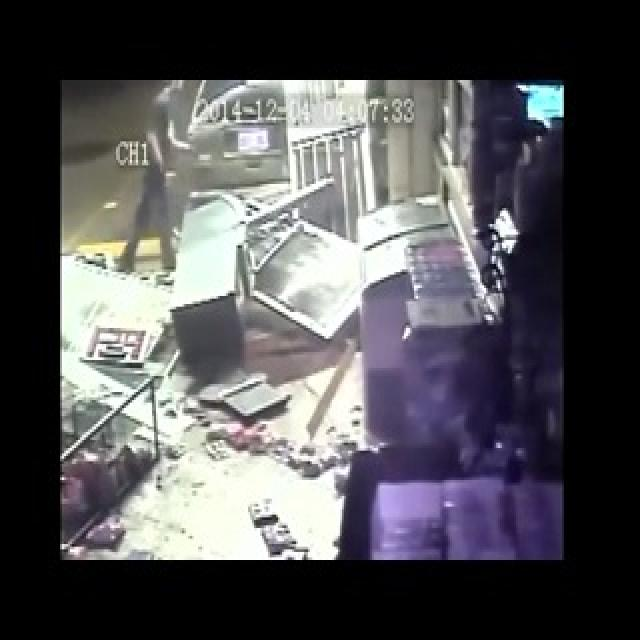thief: (158, 79, 187, 118)
